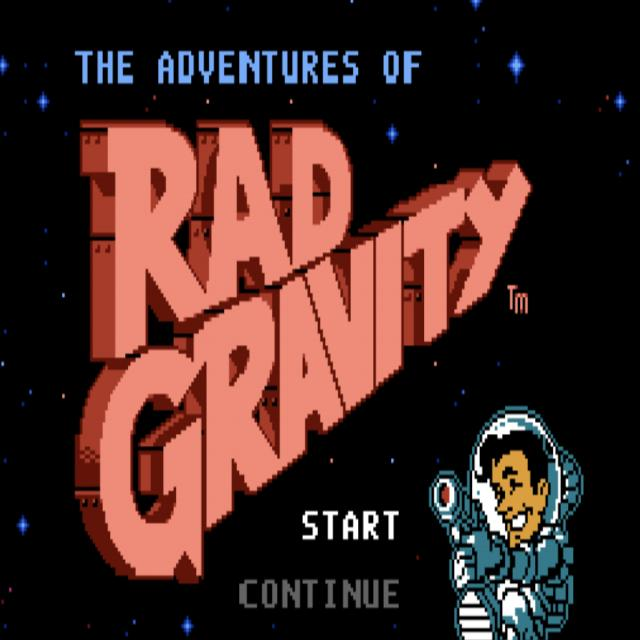Start-button: (293, 498, 411, 555)
